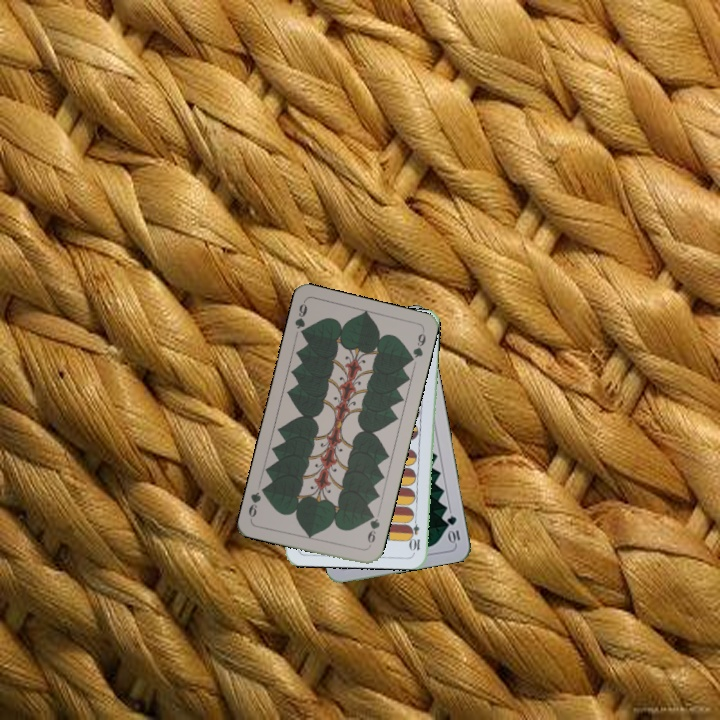E10: (408, 513, 422, 553)
G10: (443, 511, 463, 546)
G9: (291, 298, 310, 340), (363, 509, 382, 550)
